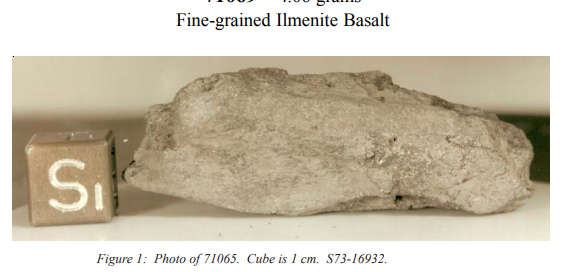Basalt: (147, 55, 541, 225)
